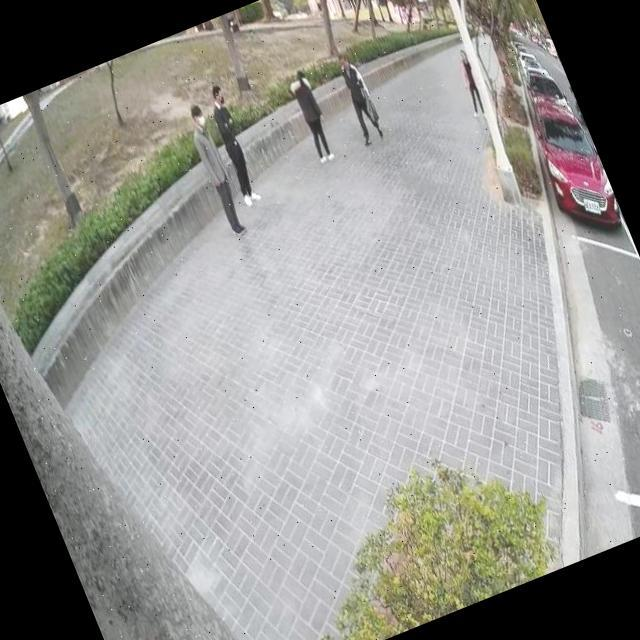person: (176, 98, 252, 240), (194, 77, 268, 210), (326, 45, 391, 152), (280, 62, 340, 166), (443, 44, 492, 127)
